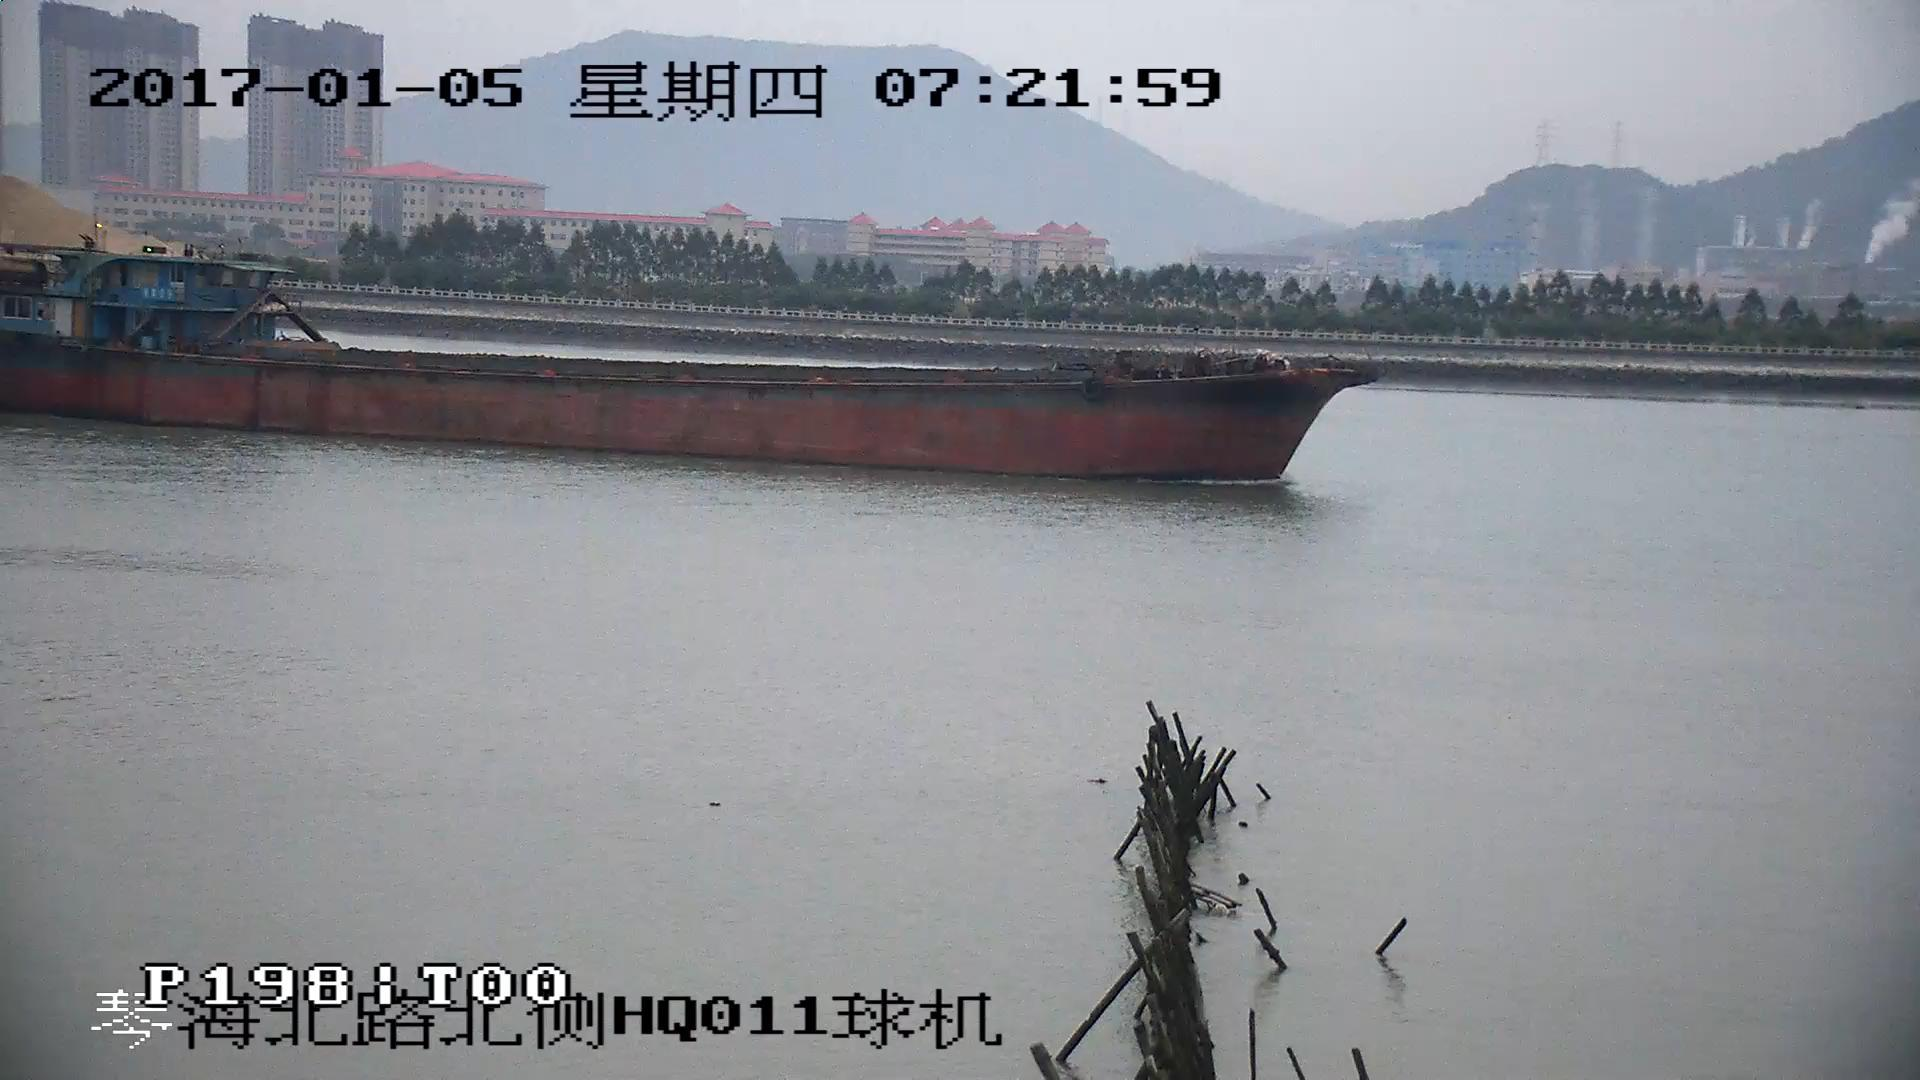Ship: (3, 247, 1382, 480)
